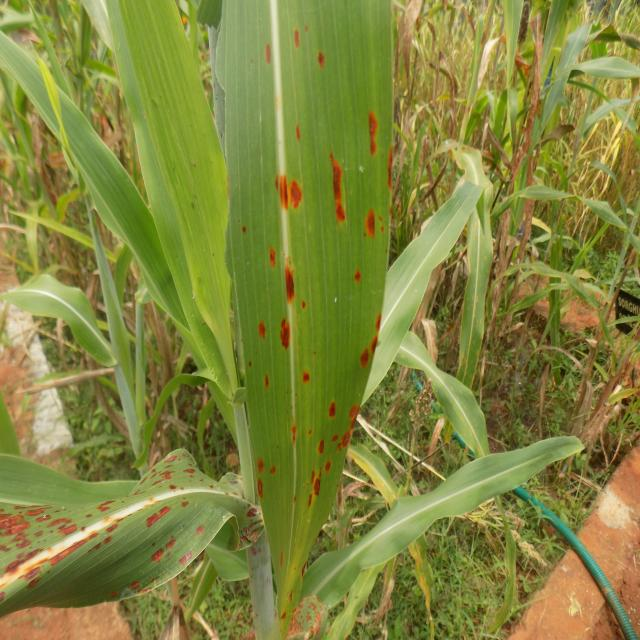millet_healthy: (266, 171, 490, 539), (0, 21, 193, 373), (278, 432, 586, 640), (119, 0, 238, 388), (57, 87, 188, 328), (435, 145, 495, 450), (0, 263, 140, 387), (519, 15, 613, 150), (542, 55, 640, 99)
millet_rust: (220, 0, 393, 637), (0, 442, 267, 629)
